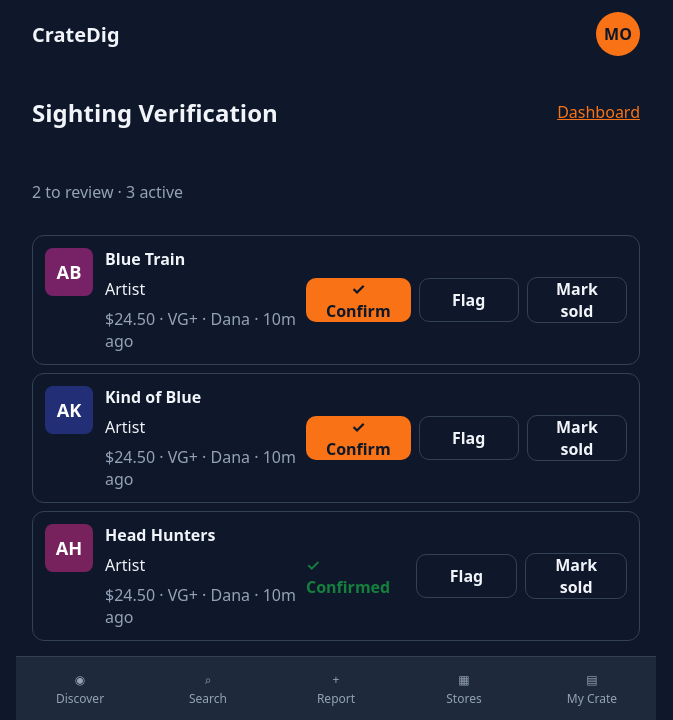
Test: /merchant/sightings › undo cancels the action before it is sent
Check: the list named "Sightings to verify" is shown, box [32,235,640,641]
Click the button with aria-label "Flag Blue Train by Artist": {"x": 469, "y": 300} [419,278,519,322]
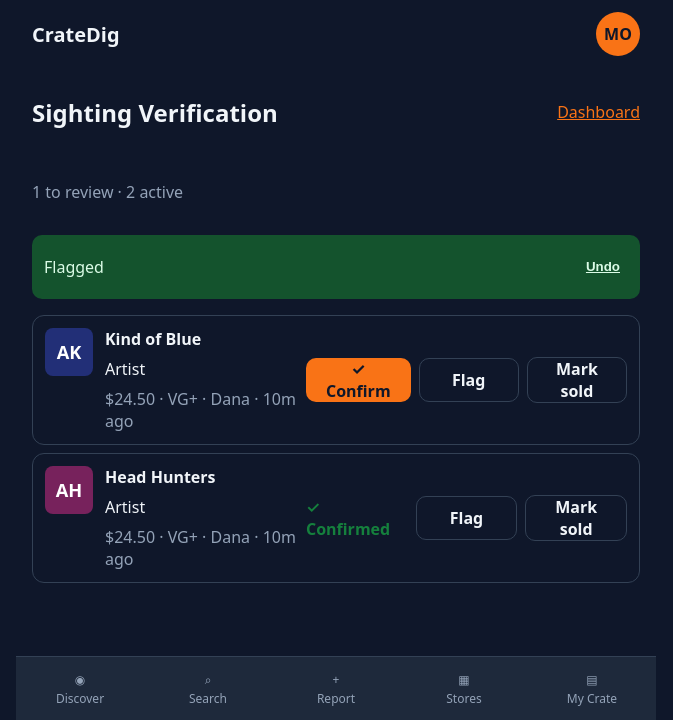
Check: the link "Blue Train" is gone
Click the button "Undo": {"x": 603, "y": 267} [578,245,628,289]
Wait 6000 ms
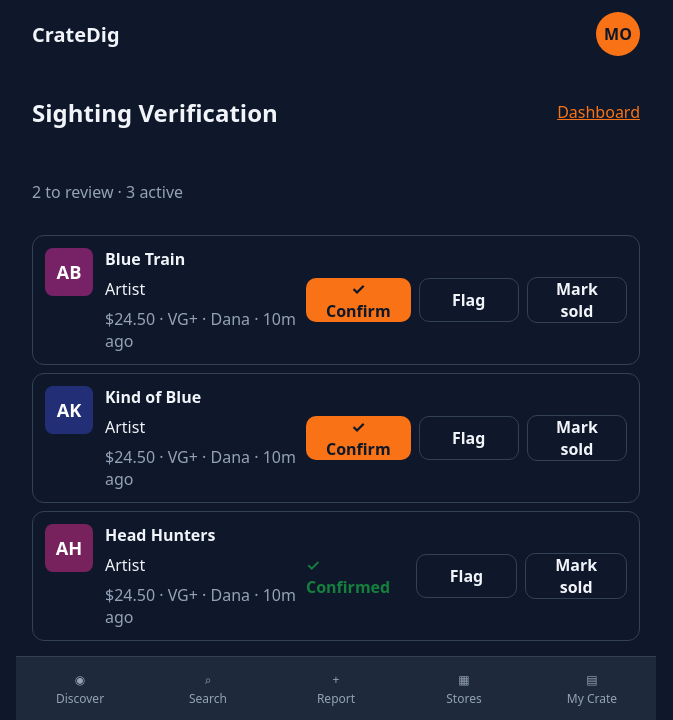
Check: the text "Blue Train" is shown, box [105,248,185,270]
